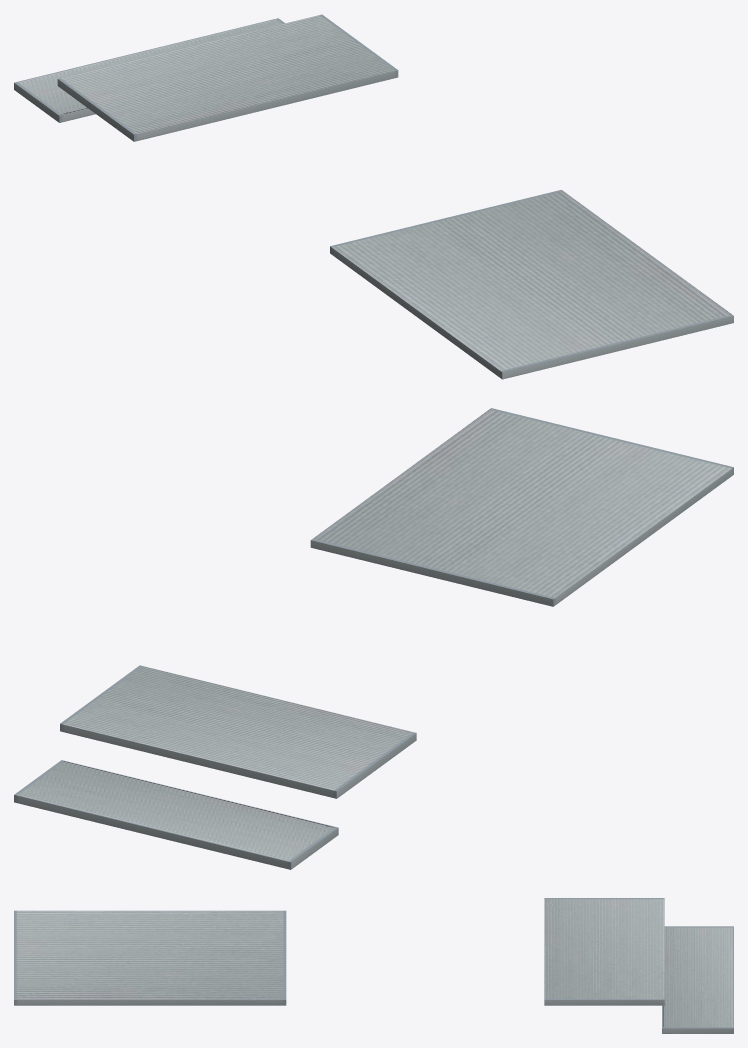
The model's file is Enthanol-storage-ROOF.glb.
The picture shows the model from 3 angles, top to bottom: view 1: azimuth 30°, elevation 25°; view 2: azimuth 150°, elevation 25°; view 3: azimuth 270°, elevation 25°; orthographic projection. The views are drawn at different scales.
Parts seen in each view (by area): view 1: ROOF, ROOF (1); view 2: ROOF, ROOF (1); view 3: ROOF, ROOF (1).
Part boxes in pixels (x1,y1,x2,y2): ROOF: (330,190,733,379); ROOF (1): (14,14,398,141); ROOF: (310,408,733,606); ROOF (1): (14,665,416,869); ROOF: (14,910,286,1005); ROOF (1): (544,898,733,1033).
Size of the model in its own units: 5.8 by 0.9 by 17.31.
1 material, 1 textured.
